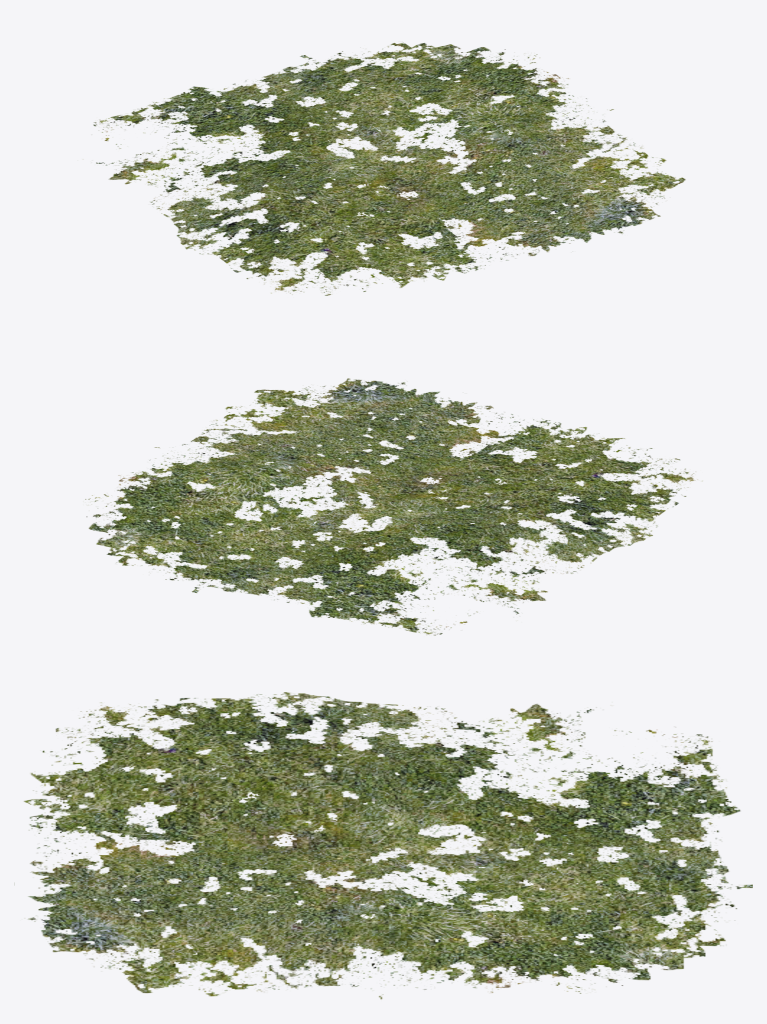
File: underbrush_plane_large.glb
3 renders of one model, top to bottom at view 1: azimuth 30°, elevation 25°; view 2: azimuth 150°, elevation 25°; view 3: azimuth 270°, elevation 25°, orthographic. The views are drawn at different scales.
Visible parts, largest first — view 1: underbrush_plane_large; view 2: underbrush_plane_large; view 3: underbrush_plane_large.
Boxes of the visible parts, <box> form: underbrush_plane_large: <box>93,42,685,295</box>; underbrush_plane_large: <box>85,378,702,635</box>; underbrush_plane_large: <box>14,692,752,999</box>.
Size of the model in its own units: 26.44 by 0.768 by 26.44.
1 material, 1 textured.
